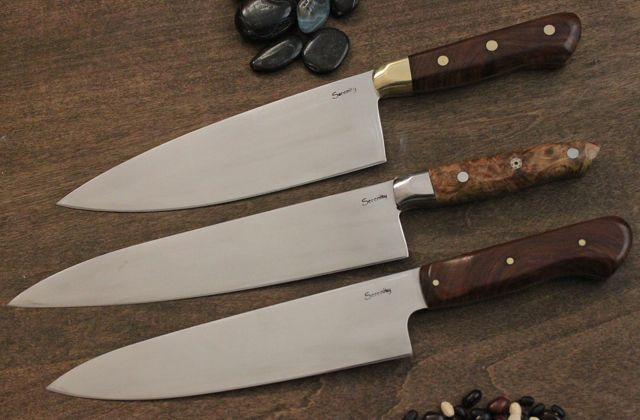knife: (4, 176, 384, 316), (43, 269, 397, 405), (53, 65, 364, 218)
